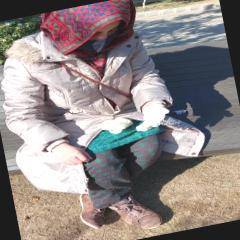gloved: (129, 100, 174, 132)
not-gloved: (50, 138, 96, 168)
